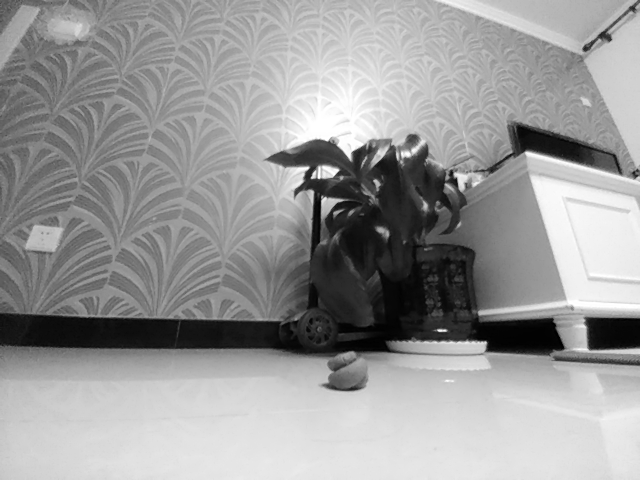pet feces: (327, 347, 368, 392)
